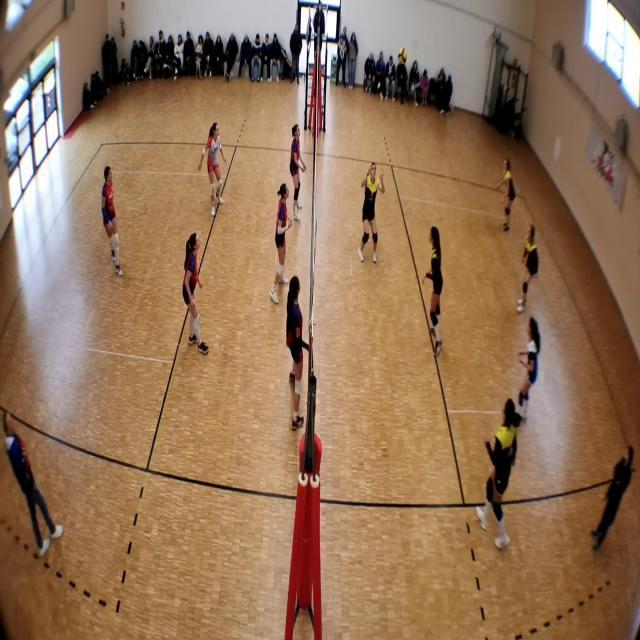volleyball: (398, 48, 408, 63)
